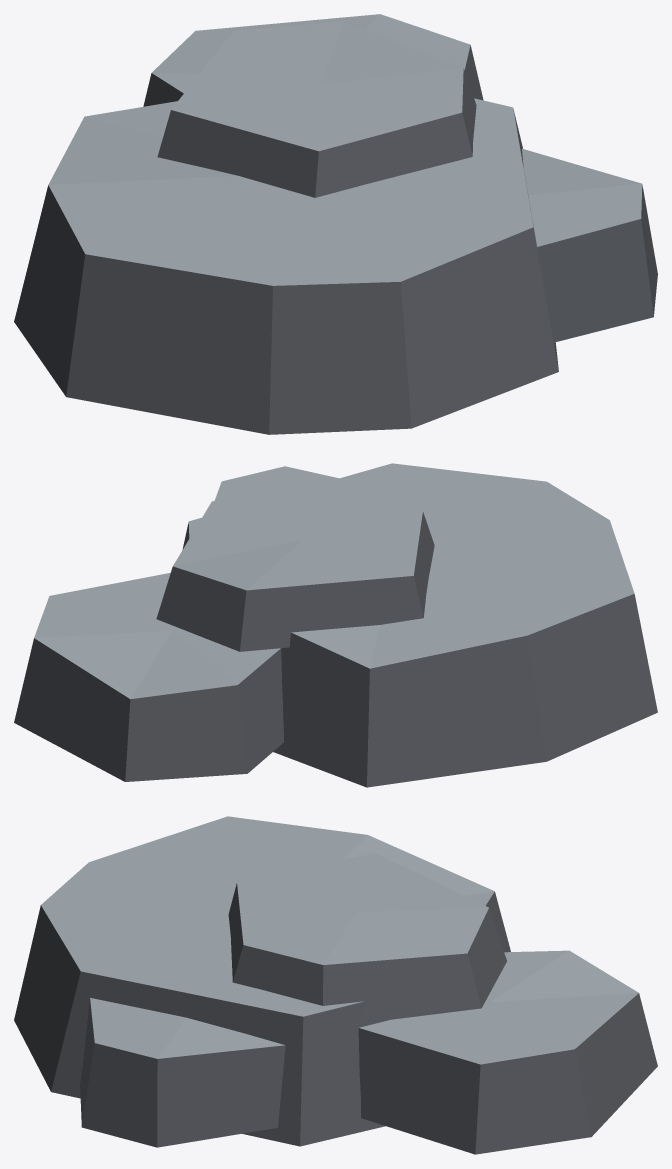
3 views of the same model, one above another, from view 1: azimuth 30°, elevation 25°; view 2: azimuth 150°, elevation 25°; view 3: azimuth 270°, elevation 25° (orthographic). The views are drawn at different scales.
Visible parts, largest first — view 1: SK_03; view 2: SK_03; view 3: SK_03.
Part boxes in pixels (x1,y1,x2,y2): SK_03: (14,14,657,434); SK_03: (14,463,657,787); SK_03: (14,816,657,1154).
Size of the model in its own units: 6.4 by 1.88 by 7.16.
